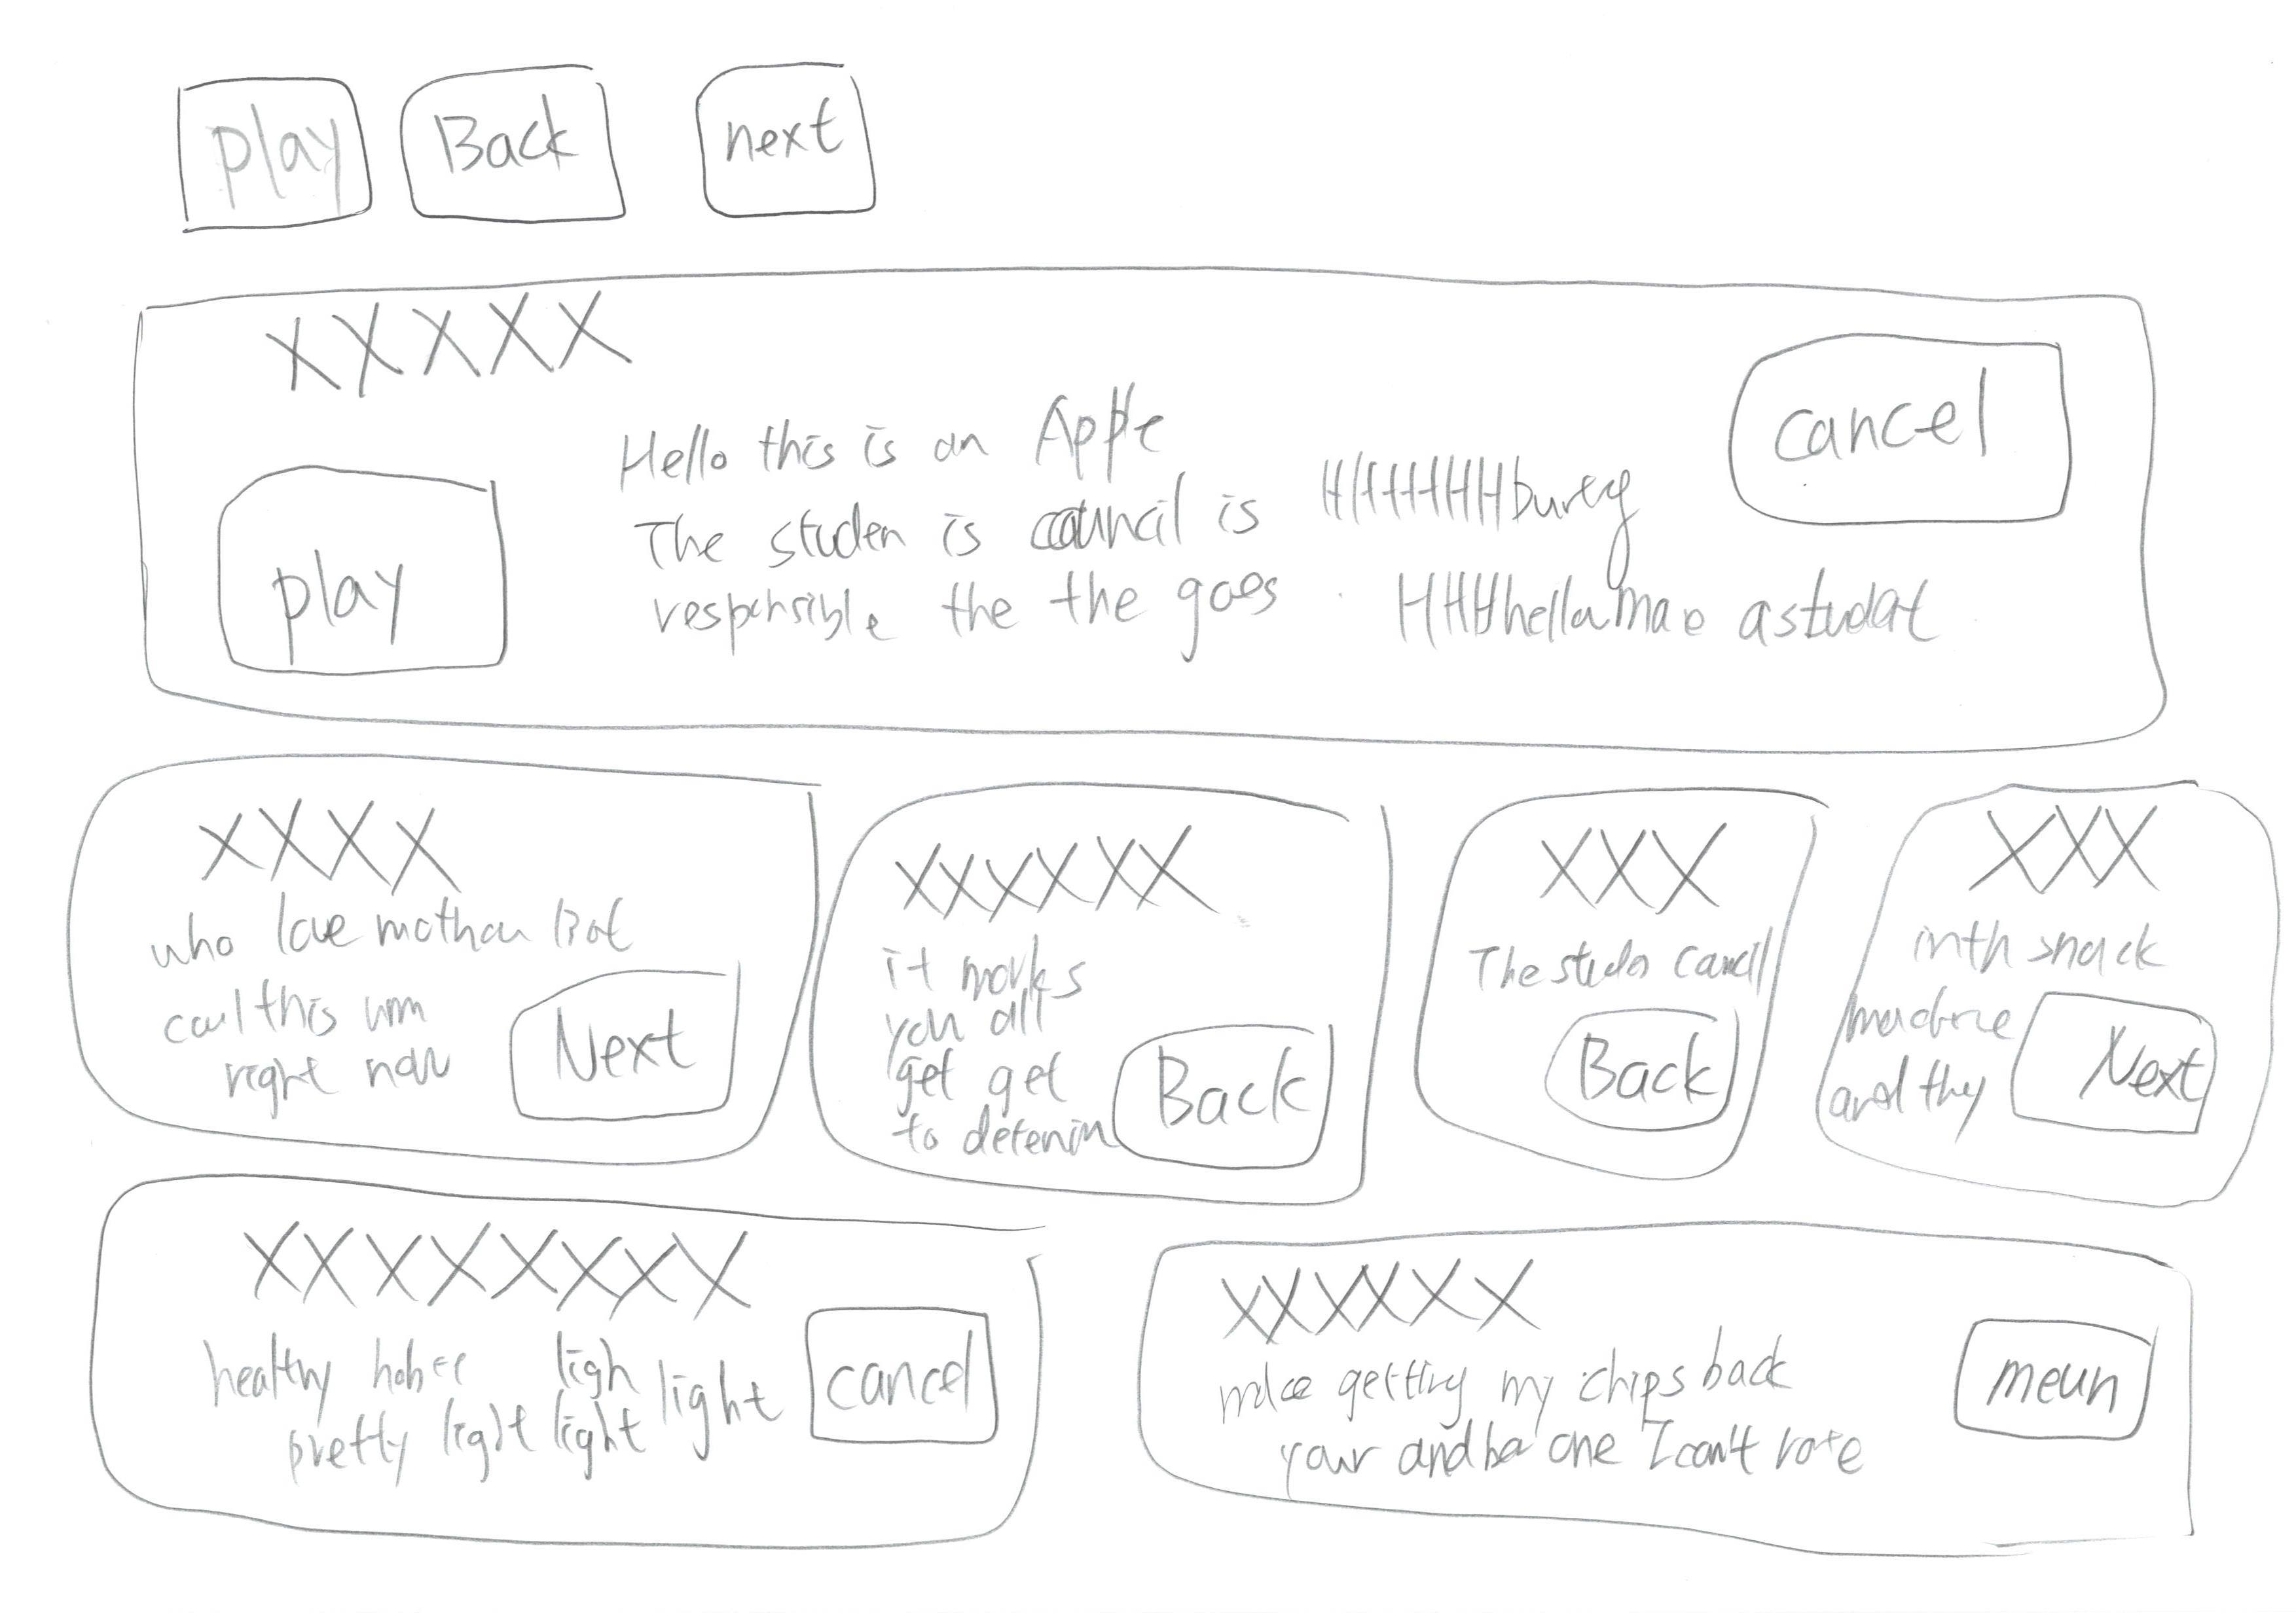back: (366, 40, 649, 265), (1088, 1014, 1361, 1186), (1522, 982, 1763, 1174)
cancel: (1665, 313, 2083, 545), (788, 1262, 1032, 1483)
double: (1122, 1207, 2245, 1622), (42, 1171, 1099, 1587)
menu: (1904, 1283, 2196, 1464)
next: (1976, 963, 2242, 1183), (490, 954, 763, 1142), (658, 44, 898, 246)
play: (153, 450, 550, 701), (127, 44, 378, 257)
quadruple: (58, 745, 832, 1178), (788, 733, 1422, 1225), (1813, 758, 2296, 1229), (1391, 728, 1851, 1220)
row: (47, 246, 2296, 803), (47, 726, 2296, 1230), (47, 1162, 2296, 1584), (47, 5, 2296, 262)
single: (93, 241, 2250, 770)
small-title: (239, 1200, 763, 1323), (236, 281, 698, 410), (890, 800, 1202, 912), (190, 782, 469, 896), (1195, 1265, 1588, 1345), (1526, 805, 1726, 926), (1955, 798, 2213, 889)
text: (608, 402, 1310, 654), (192, 1313, 803, 1503), (1308, 410, 1684, 677), (130, 865, 501, 1123), (1217, 1339, 1853, 1485), (1392, 576, 1983, 675), (872, 940, 1094, 1158), (1888, 919, 2002, 1153), (1897, 909, 2238, 981), (1475, 928, 1772, 995), (396, 888, 658, 946)
